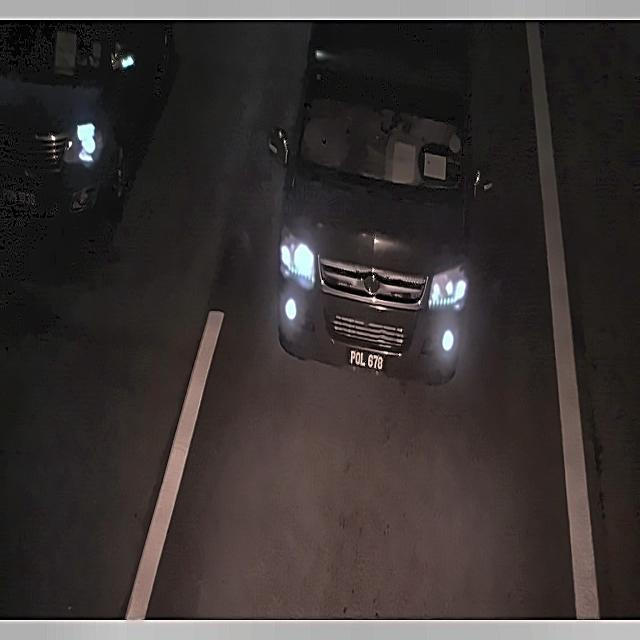car: (342, 341, 390, 377)
